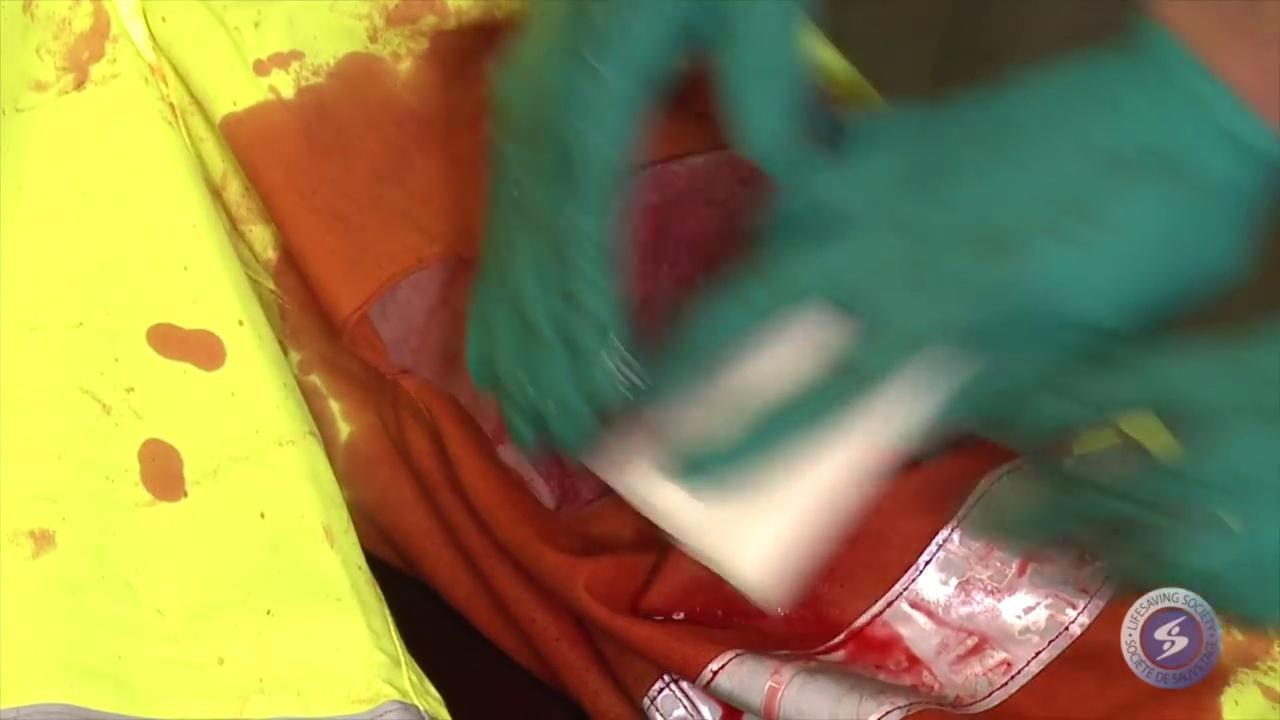Fire: (138, 18, 1280, 719), (136, 301, 269, 572), (628, 78, 762, 318)
